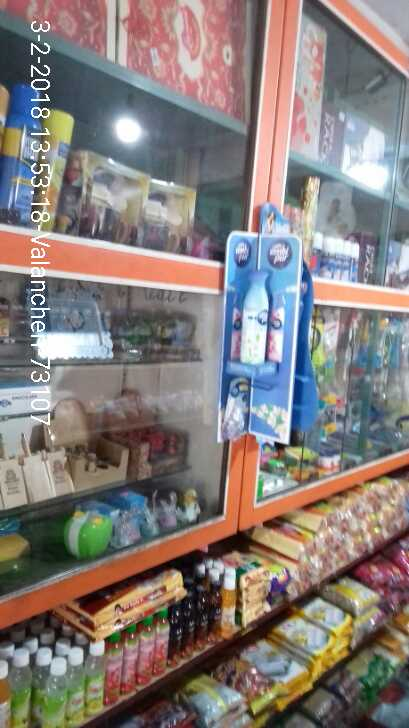ambipure: (238, 254, 278, 377)
